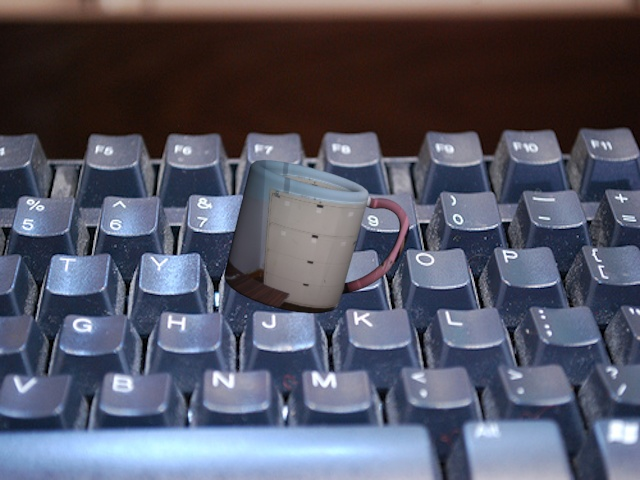mug: (225, 153, 417, 320)
